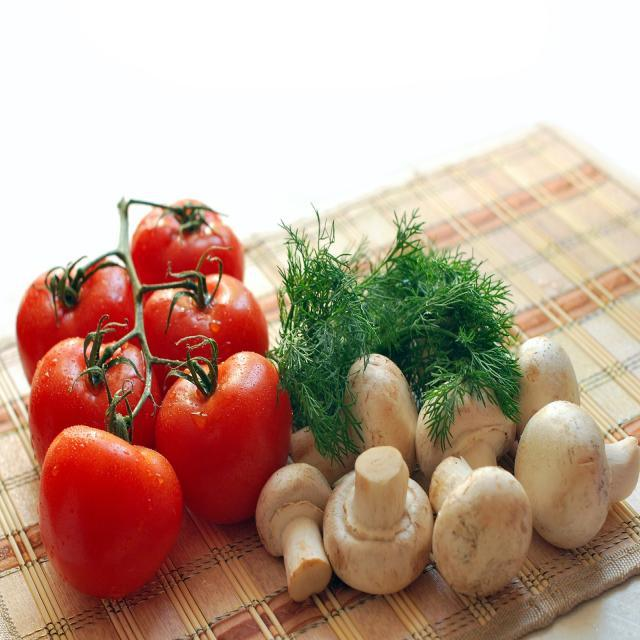tomato: (42, 424, 185, 604), (158, 352, 294, 534), (30, 329, 161, 469), (15, 254, 139, 372), (140, 282, 272, 372), (130, 202, 247, 296)
